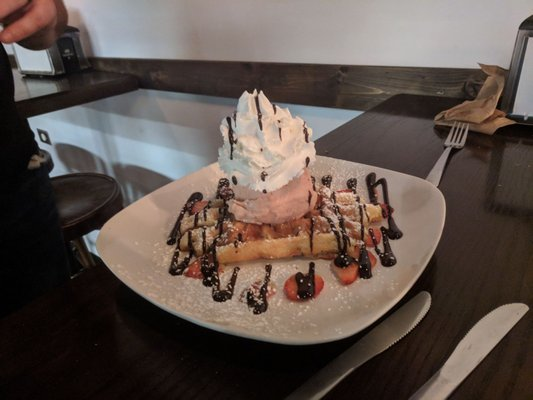burger: (425, 122, 470, 190)
sandwich: (279, 290, 433, 400), (406, 302, 532, 400)
